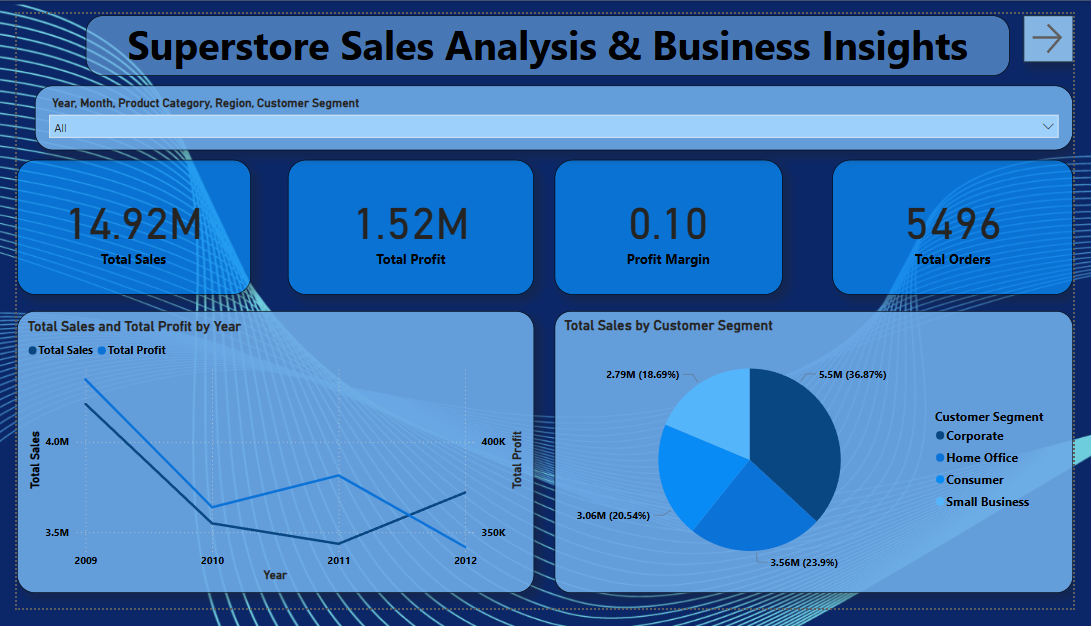

What the dashboard file says about the page in this screenshot:
{"tool":"powerbi","page":{"name":"Page 1","canvas":[1280,720],"ordinal":0},"visuals":[{"type":"card","fields":{"Values":["Orders.Total Sales"]},"box":[0,176.7,283.3,163.3],"z":0},{"type":"card","fields":{"Values":["Orders.Total Profit"]},"box":[328.3,176.7,298.3,163.3],"z":1000},{"type":"card","fields":{"Values":["Orders.Profit Margin"]},"box":[651.7,176.7,276.7,163.3],"z":2000},{"type":"card","fields":{"Values":["Orders.Total Orders"]},"box":[988.3,176.7,291.7,163.3],"z":3000},{"type":"lineChart","fields":{"Category":["Orders.Order Date.Variation.Date Hierarchy.Year","Orders.Order Date.Variation.Date Hierarchy.Month"],"Y":["Orders.Total Sales"],"Y2":["Orders.Total Profit"]},"box":[0,360,626.7,341.7],"z":4000},{"type":"pieChart","fields":{"Category":["Orders.Customer Segment"],"Y":["Orders.Total Sales"]},"box":[651.7,360,628.3,341.7],"z":5000},{"type":"slicer","fields":{"Values":["Orders.Order Date.Variation.Date Hierarchy.Year","Orders.Order Date.Variation.Date Hierarchy.Month","Orders.Product Category","Orders.Region","Orders.Customer Segment"]},"box":[21.7,86.7,1258.3,78.3],"z":6000},{"type":"actionButton","box":[1220,1.7,60,56.7],"z":6003},{"type":"textbox","box":[83.3,1.7,1120,73.3],"z":6004}]}

Visuals, with their boxes in screenshot pixels (x1, y1, x2, y2), scaled from the page's 1280x720 canvas onto the 1091x626 screenshot:
card - Orders.Total Sales: 0 154 241 296
card - Orders.Total Profit: 280 154 534 296
card - Orders.Profit Margin: 555 154 791 296
card - Orders.Total Orders: 842 154 1090 296
lineChart - Orders.Order Date.Variation.Date Hierarchy.Year x Orders.Order Date.Variation.Date Hierarchy.Month: 0 313 534 610
pieChart - Orders.Customer Segment x Orders.Total Sales: 555 313 1090 610
slicer - Orders.Order Date.Variation.Date Hierarchy.Year x Orders.Order Date.Variation.Date Hierarchy.Month: 18 75 1090 143
actionButton: 1040 1 1090 51
textbox: 71 1 1026 65
